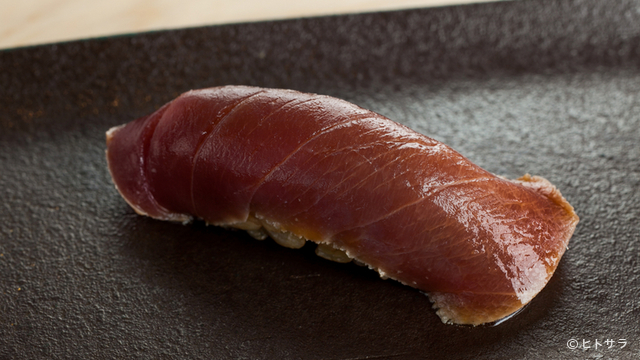medium_fatty_tuna: (105, 83, 582, 330)
